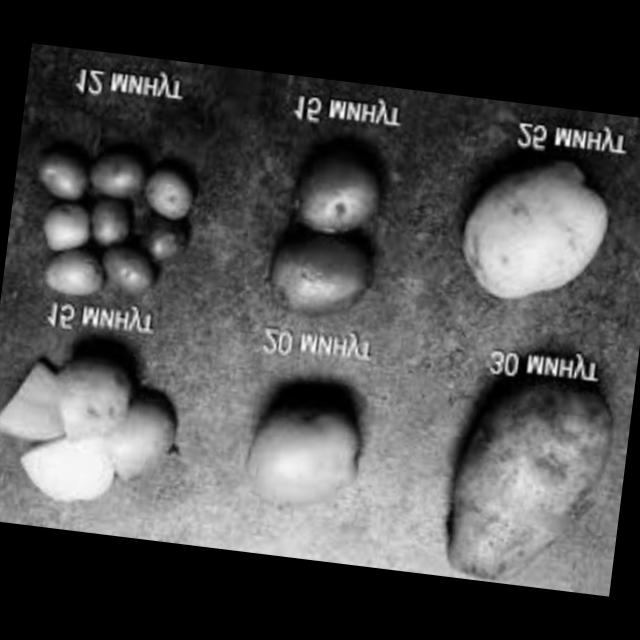potato: (432, 344, 636, 596), (0, 330, 204, 529), (451, 145, 640, 329), (18, 147, 220, 310), (232, 358, 407, 528), (255, 221, 408, 335), (281, 148, 404, 252)
